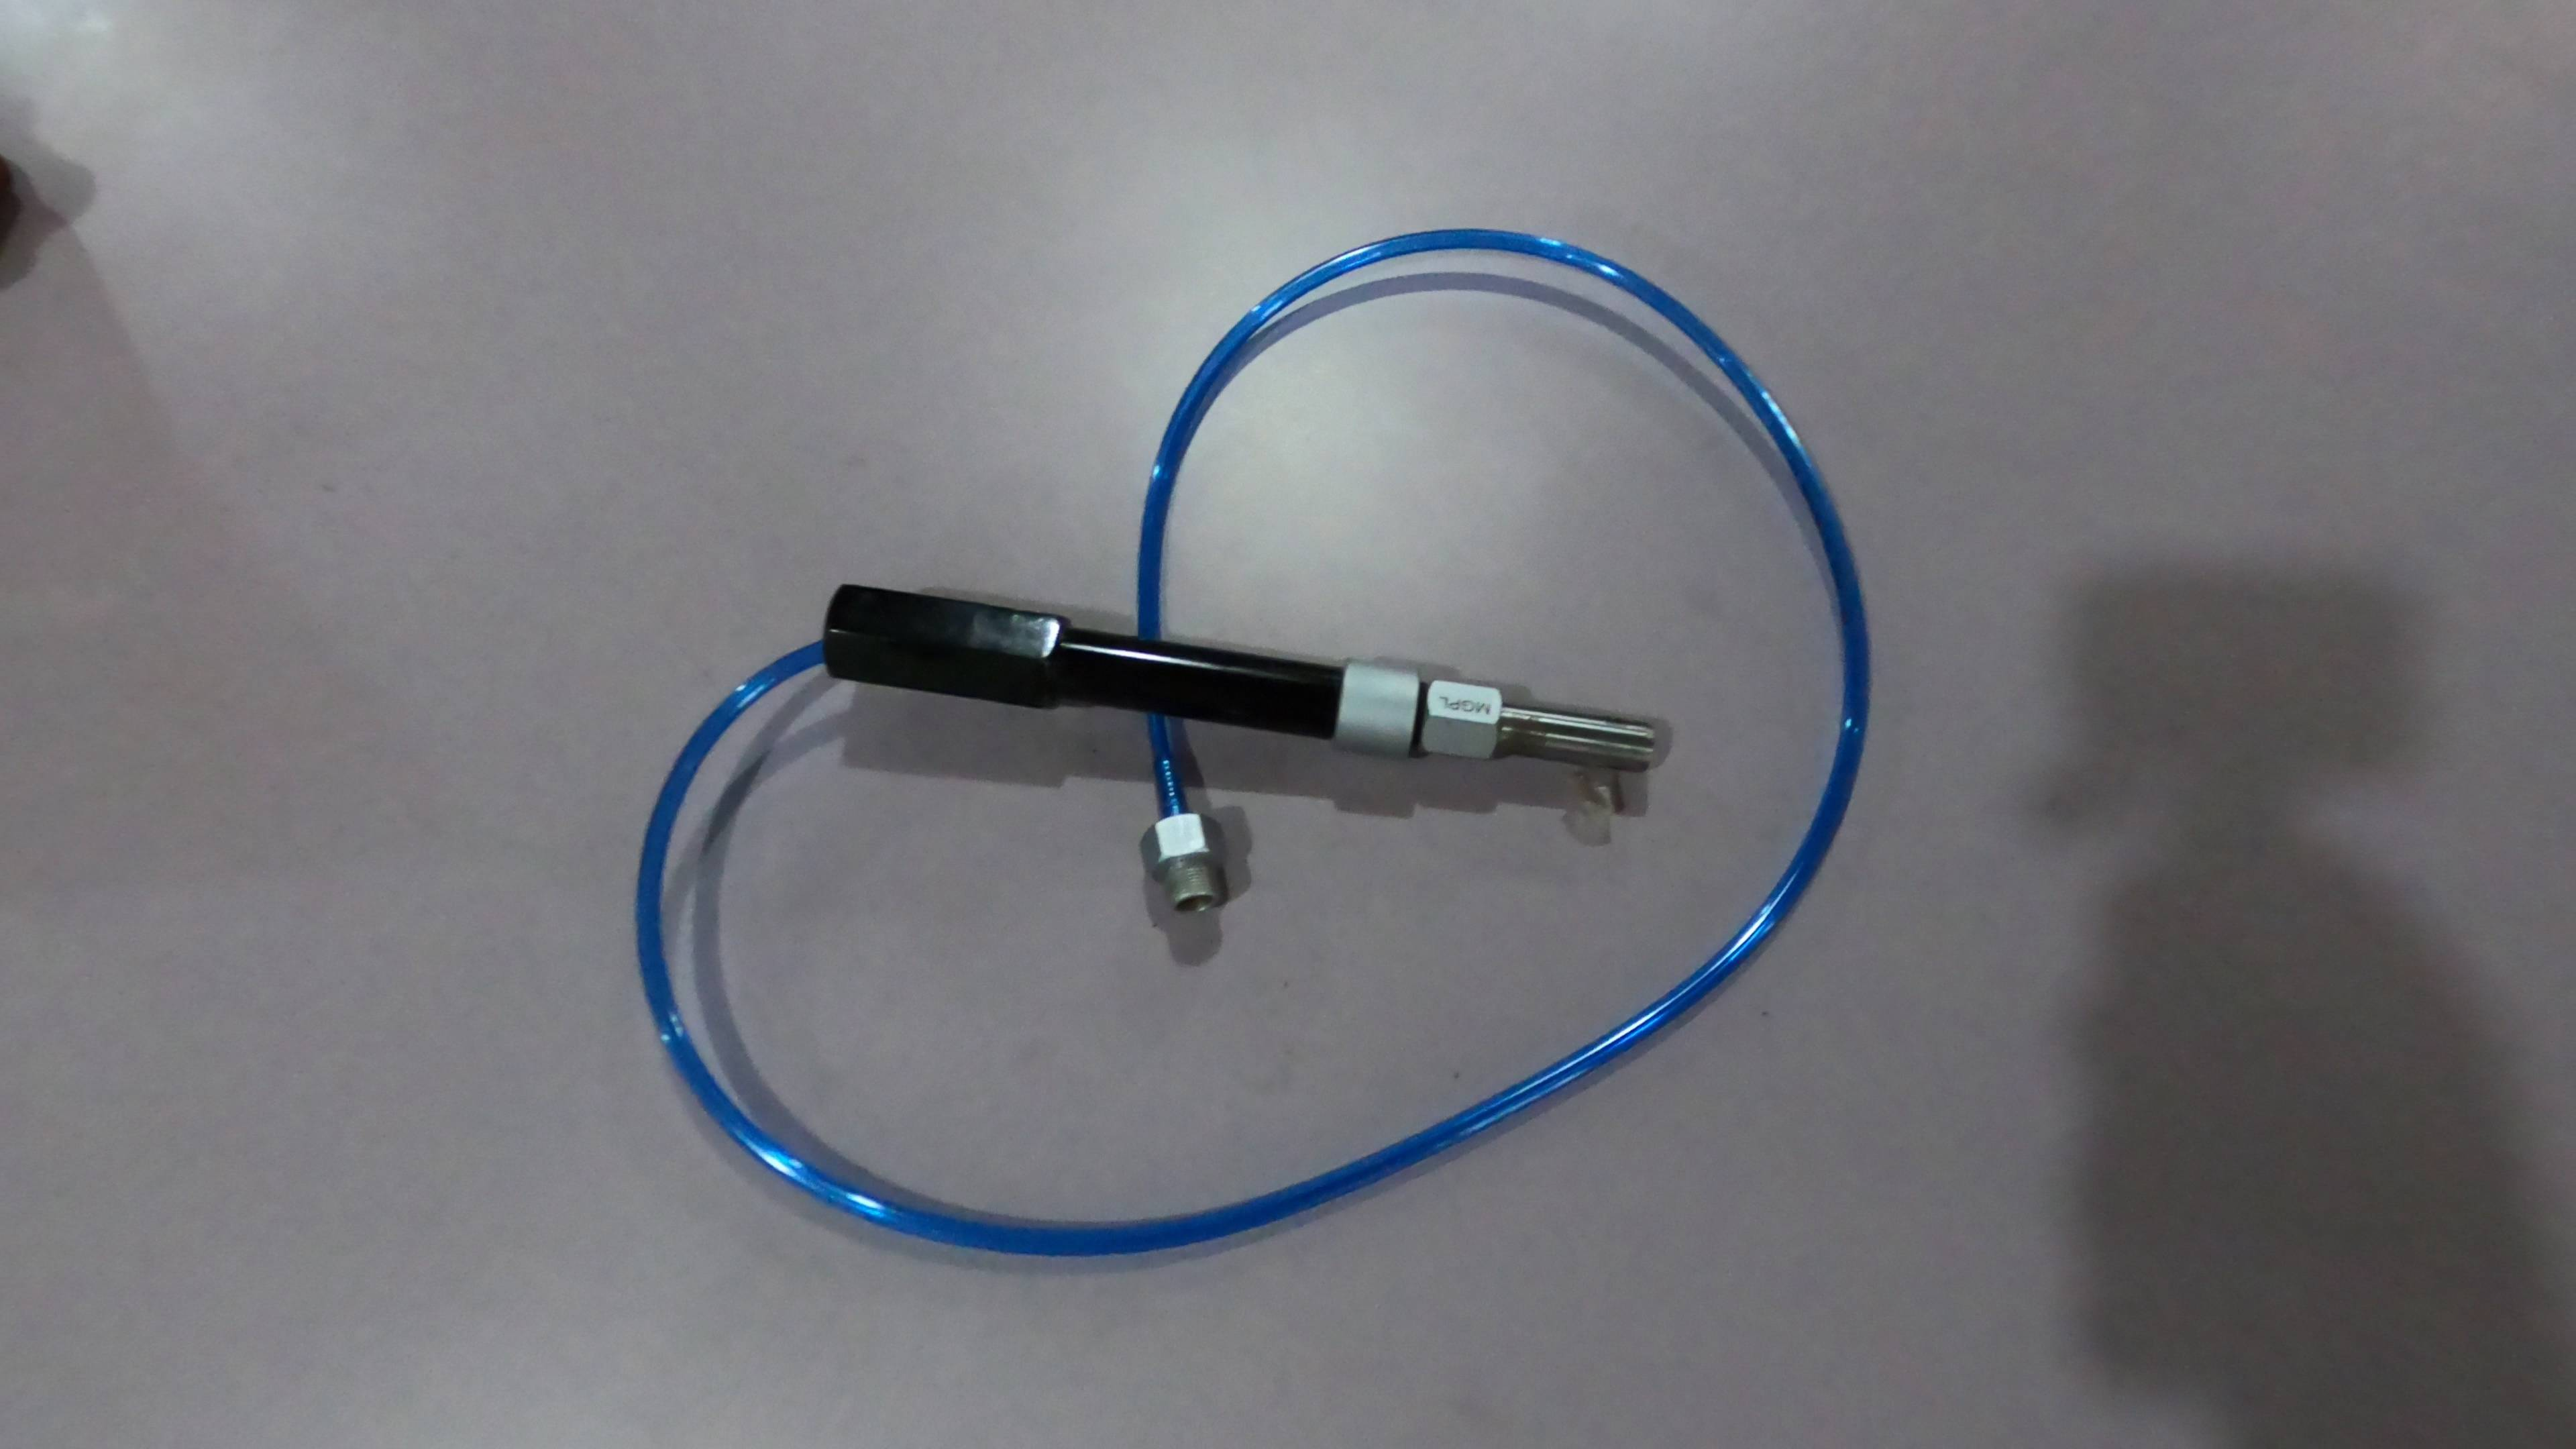air_gauge: (819, 571, 1661, 796)
